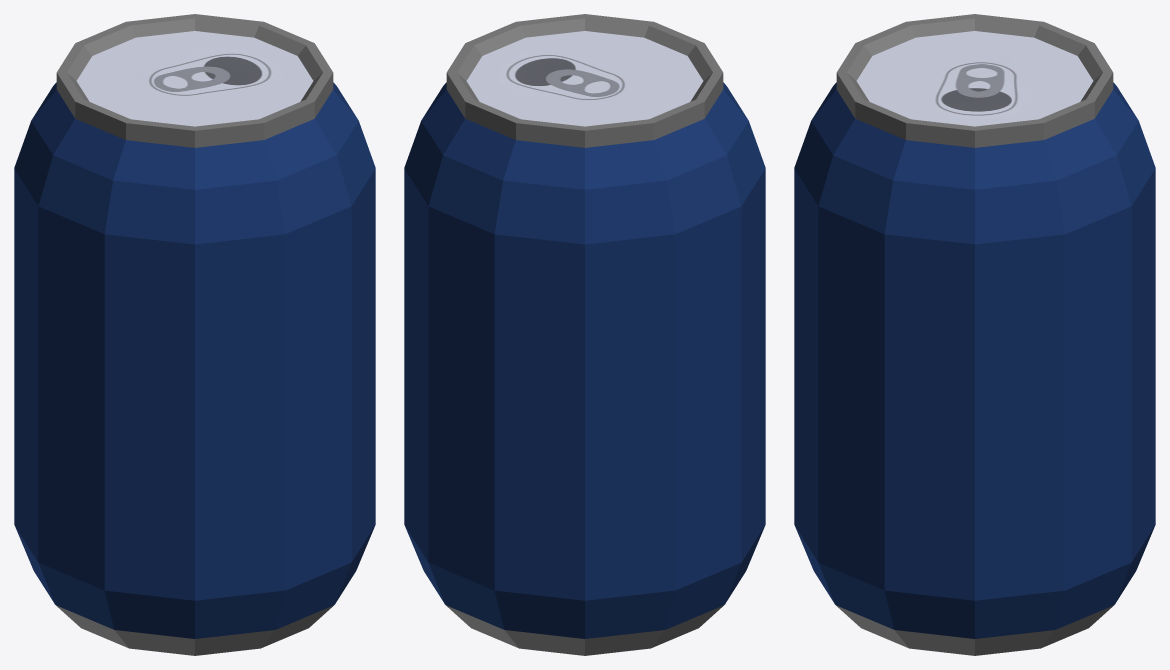
Rendered from bobbin1.glb.
3 renders of one model, left to right at view 1: azimuth 30°, elevation 25°; view 2: azimuth 150°, elevation 25°; view 3: azimuth 270°, elevation 25°, orthographic.
Parts seen in each view (by area): view 1: SM_yilaguan_yecan_blue_0; view 2: SM_yilaguan_yecan_blue_0; view 3: SM_yilaguan_yecan_blue_0.
Part boxes in pixels (x1,y1,x2,y2): SM_yilaguan_yecan_blue_0: [14, 14, 375, 655]; SM_yilaguan_yecan_blue_0: [404, 14, 765, 655]; SM_yilaguan_yecan_blue_0: [794, 14, 1155, 655].
Bounding box in the file's own units: 38.77 × 62.46 × 38.77.
Materials: 3 (3 with a texture image).
